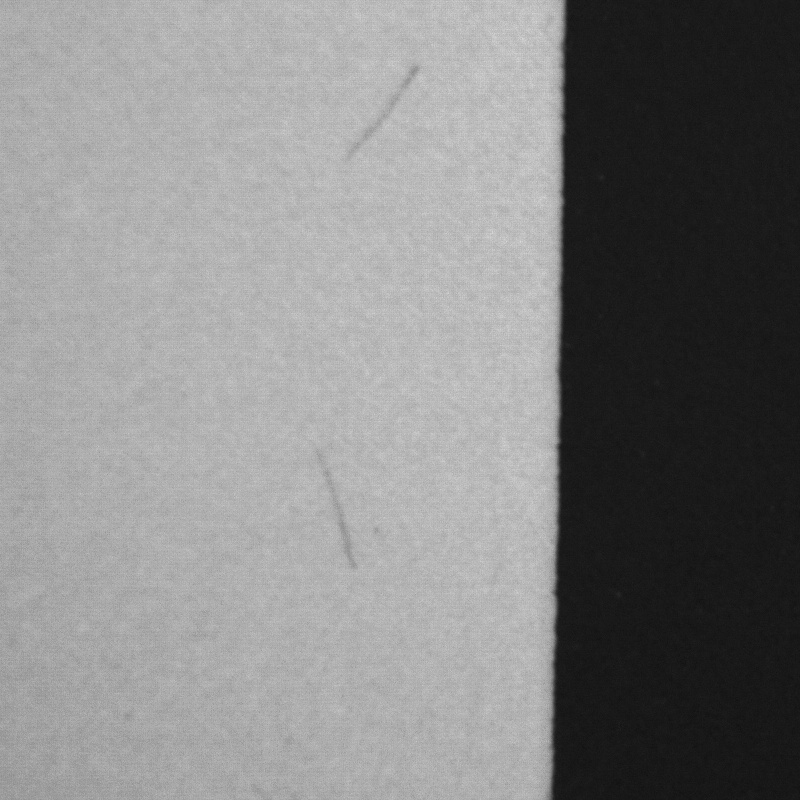defect: (339, 70, 416, 165), (311, 451, 358, 576)
